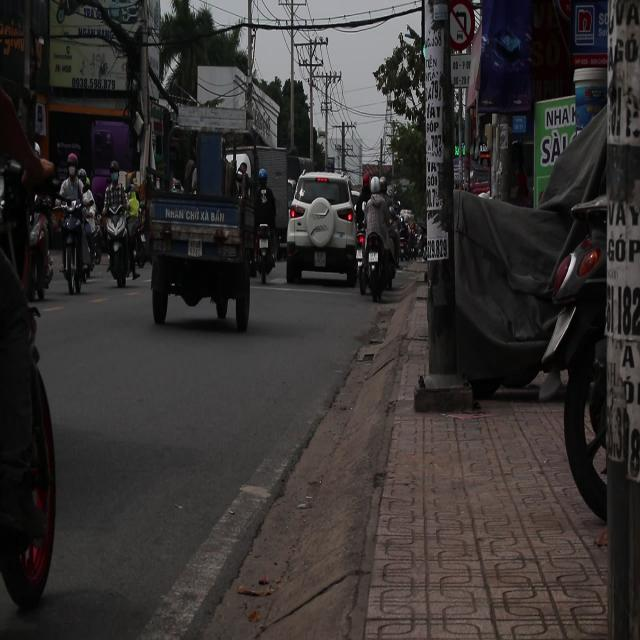car: (286, 172, 358, 286)
motorbike: (52, 186, 96, 295), (97, 190, 140, 301), (355, 190, 398, 299), (20, 189, 57, 301)
truck: (146, 121, 296, 325)
